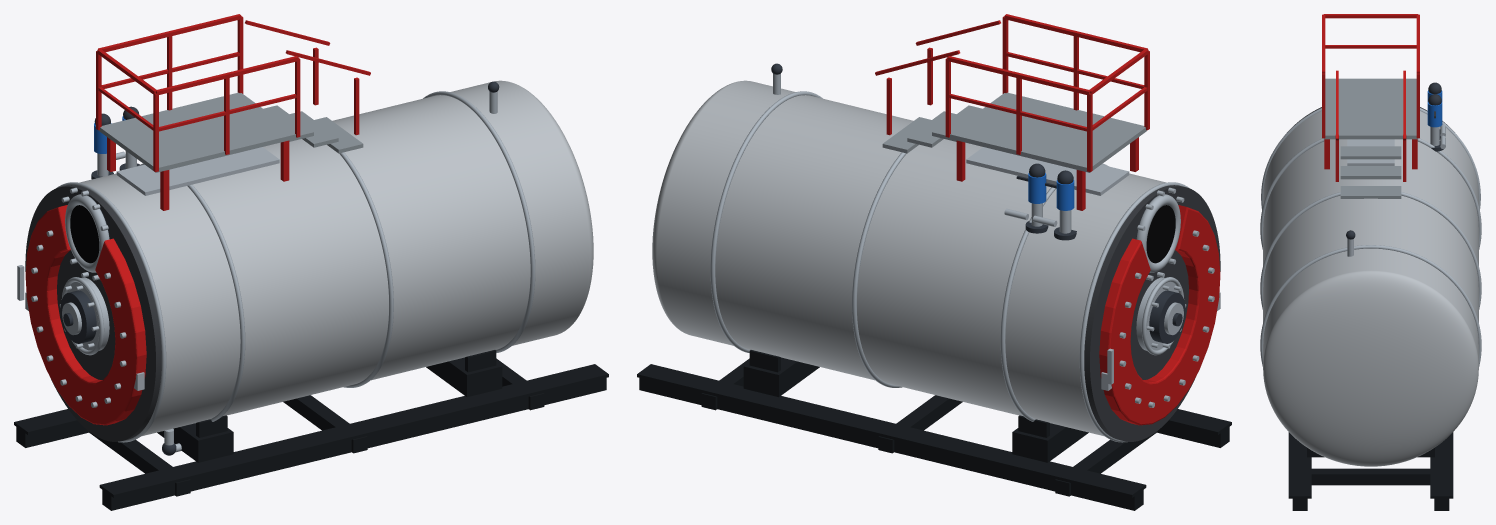
Rendered from buhar-kazani.glb.
3 renders of one model, left to right at view 1: azimuth 30°, elevation 25°; view 2: azimuth 150°, elevation 25°; view 3: azimuth 270°, elevation 25°, orthographic. The views are drawn at different scales.
Visible parts, largest first — view 1: Asset; view 2: Asset; view 3: Asset.
Boxes of the visible parts, x1=… form: Asset: x1=14, y1=14, x2=608, y2=510; Asset: x1=637, y1=14, x2=1231, y2=510; Asset: x1=1260, y1=14, x2=1481, y2=510.
Size of the model in its own units: 7 by 5.28 by 3.28.
